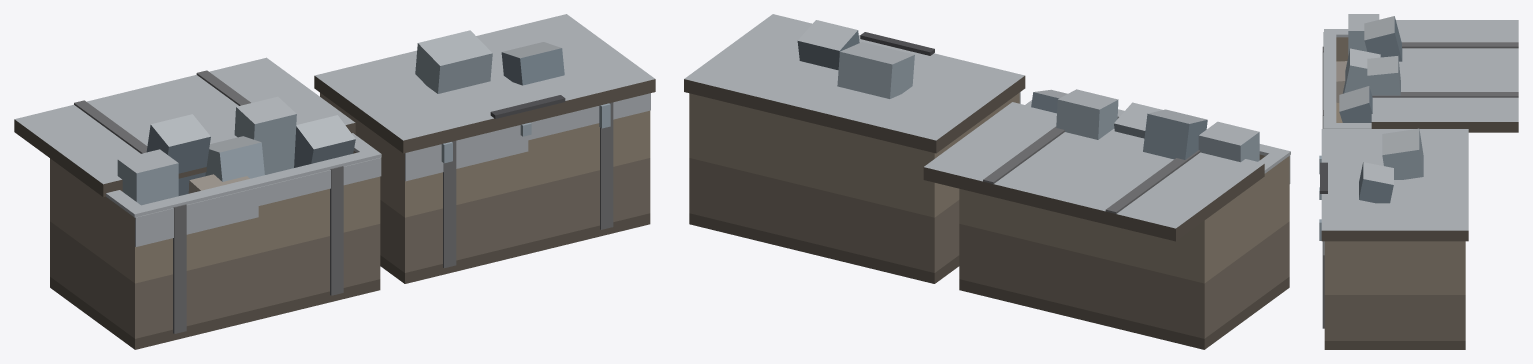
Rendered from food_crates.glb.
3 views of the same model, side by side, from view 1: azimuth 30°, elevation 25°; view 2: azimuth 150°, elevation 25°; view 3: azimuth 270°, elevation 25° (orthographic). The views are drawn at different scales.
Visible parts, largest first — view 1: food_crates; view 2: food_crates; view 3: food_crates.
Part boxes in pixels (bbox=[...]): food_crates: bbox=[14, 14, 655, 349]; food_crates: bbox=[684, 14, 1290, 349]; food_crates: bbox=[1319, 14, 1518, 349].
Bounding box in the file's own units: 3 × 1 × 1.2.
